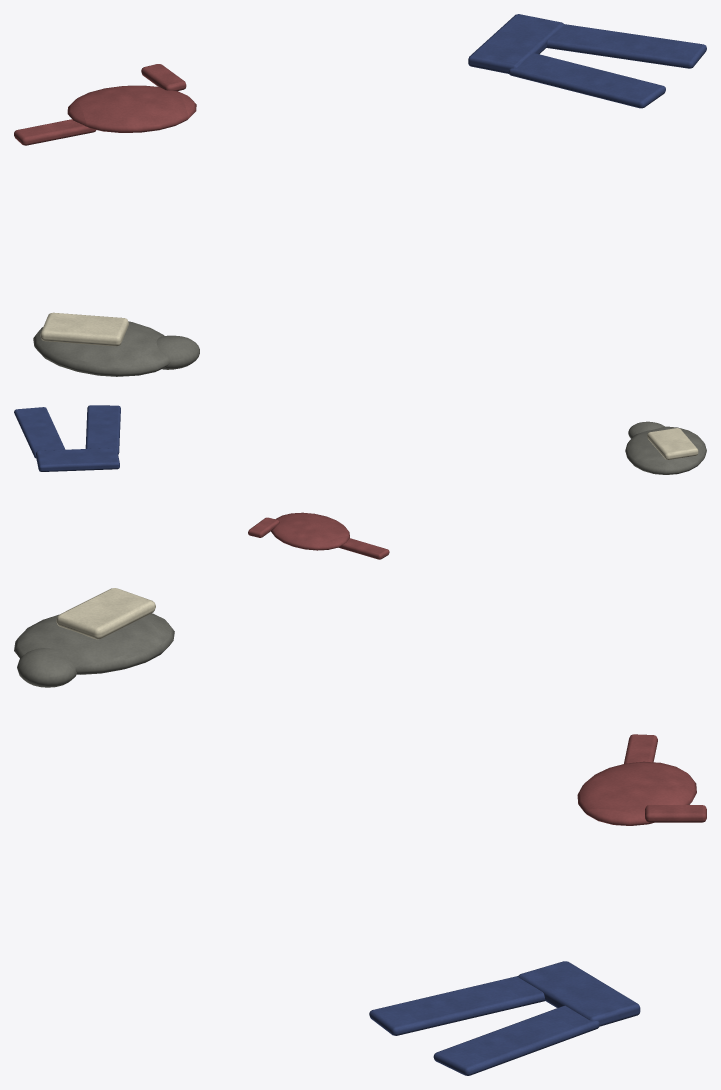
Rendered from escena.casa.desorden.fbx.
3 views of the same model, one above another, from view 1: azimuth 30°, elevation 25°; view 2: azimuth 150°, elevation 25°; view 3: azimuth 270°, elevation 25° (orthographic). The views are drawn at different scales.
Visible parts, largest first — view 1: Chaleco, Poleron, Pierna del jean, Pierna del jean.001, Cintura del jean, Toalla, Manga estirada, Capucha, Manga doblada; view 2: Chaleco, Poleron, Cintura del jean, Pierna del jean, Pierna del jean.001, Toalla, Manga estirada, Manga doblada, Capucha; view 3: Poleron, Chaleco, Pierna del jean.001, Pierna del jean, Cintura del jean, Toalla, Capucha, Manga doblada, Manga estirada.
Boxes of the visible parts, x1=… form: Chaleco: x1=67, y1=85, x2=196, y2=132; Poleron: x1=33, y1=321, x2=170, y2=376; Pierna del jean: x1=546, y1=24, x2=706, y2=68; Pierna del jean.001: x1=508, y1=53, x2=665, y2=108; Cintura del jean: x1=468, y1=14, x2=563, y2=73; Toalla: x1=40, y1=312, x2=128, y2=346; Manga estirada: x1=14, y1=119, x2=96, y2=145; Capucha: x1=156, y1=335, x2=199, y2=369; Manga doblada: x1=141, y1=64, x2=186, y2=91; Chaleco: x1=271, y1=512, x2=349, y2=550; Poleron: x1=625, y1=426, x2=706, y2=474; Cintura del jean: x1=36, y1=448, x2=119, y2=471; Pierna del jean: x1=14, y1=407, x2=65, y2=458; Pierna del jean.001: x1=85, y1=405, x2=120, y2=454; Toalla: x1=647, y1=428, x2=698, y2=459; Manga estirada: x1=338, y1=538, x2=389, y2=559; Manga doblada: x1=248, y1=517, x2=279, y2=537; Capucha: x1=628, y1=421, x2=664, y2=438; Poleron: x1=14, y1=613, x2=174, y2=674; Chaleco: x1=577, y1=761, x2=696, y2=825; Pierna del jean.001: x1=369, y1=976, x2=545, y2=1035; Pierna del jean: x1=433, y1=1005, x2=599, y2=1075; Cintura del jean: x1=518, y1=961, x2=640, y2=1026; Toalla: x1=56, y1=588, x2=155, y2=639; Capucha: x1=17, y1=648, x2=76, y2=687; Manga doblada: x1=645, y1=805, x2=706, y2=822; Manga estirada: x1=624, y1=734, x2=657, y2=763.
Bounding box in the file's own units: 2.75 × 0.1175 × 1.79.
Materials: 4 (4 with a texture image).
